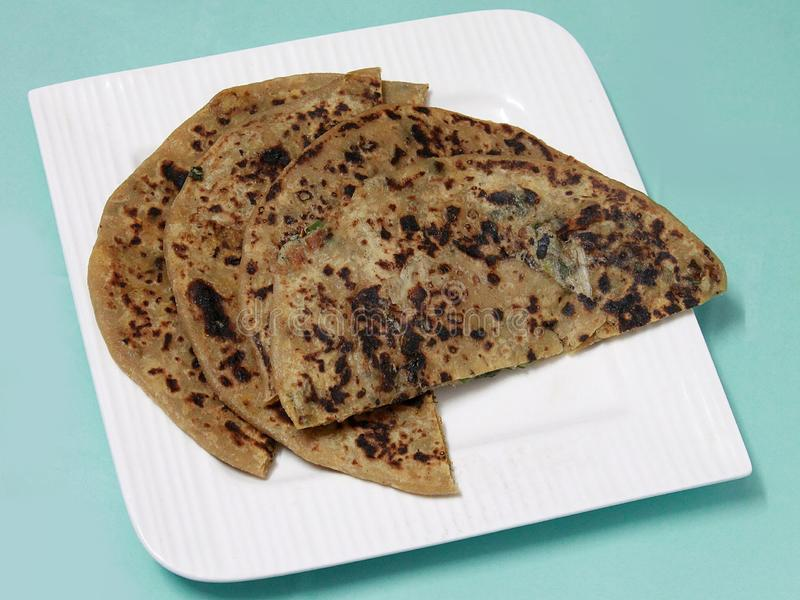aloo_paratha: (84, 69, 733, 511)
